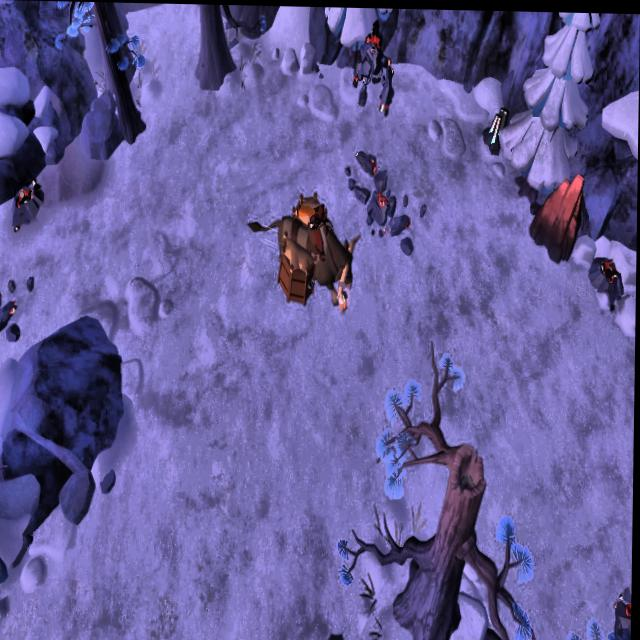ore_t4: (489, 101, 510, 141)
rock_t5: (529, 165, 588, 259)
